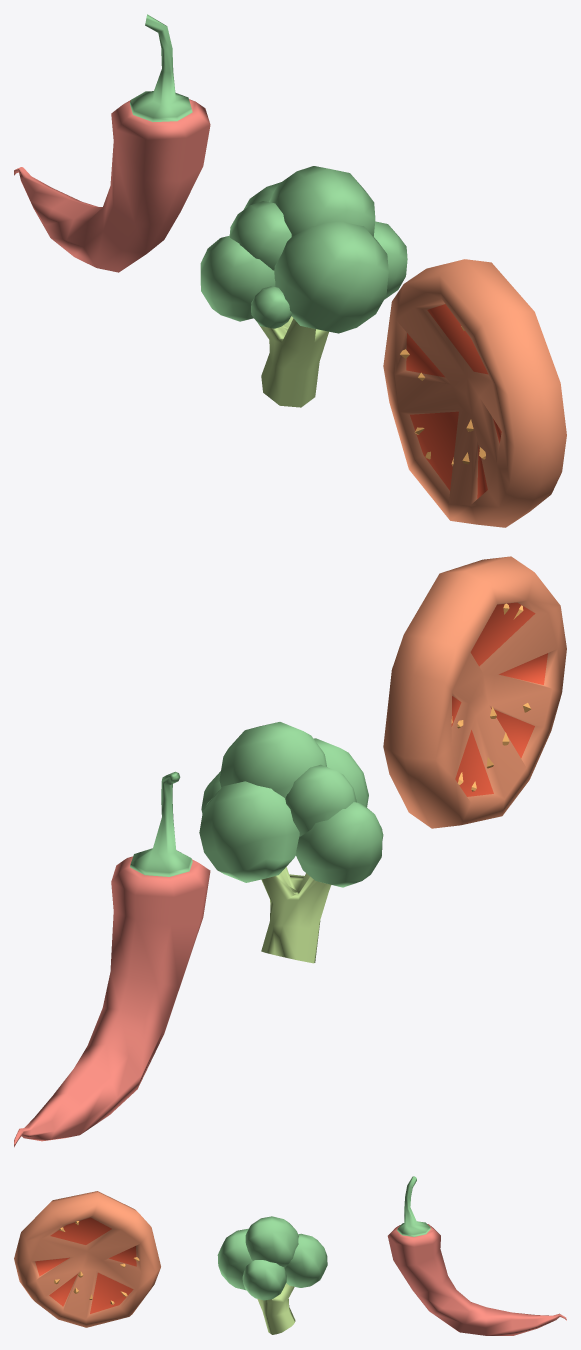
The model's file is Obstacle-Set-2.fbx.
3 renders of one model, top to bottom at view 1: azimuth 30°, elevation 25°; view 2: azimuth 150°, elevation 25°; view 3: azimuth 270°, elevation 25°, orthographic. The views are drawn at different scales.
Visible parts, largest first — view 1: tomatoSlice, Broccoli, Chili_Pepper_01; view 2: tomatoSlice, Broccoli, Chili_Pepper_01; view 3: tomatoSlice, Broccoli, Chili_Pepper_01.
Boxes of the visible parts, x1=… form: tomatoSlice: x1=383, y1=259, x2=566, y2=527; Broccoli: x1=200, y1=166, x2=407, y2=407; Chili_Pepper_01: x1=14, y1=14, x2=210, y2=272; tomatoSlice: x1=383, y1=556, x2=566, y2=828; Broccoli: x1=199, y1=722, x2=383, y2=963; Chili_Pepper_01: x1=14, y1=771, x2=210, y2=1147; tomatoSlice: x1=14, y1=1191, x2=160, y2=1327; Broccoli: x1=217, y1=1216, x2=327, y2=1334; Chili_Pepper_01: x1=387, y1=1176, x2=566, y2=1335.
Size of the model in its own units: 0.9093 by 1.43 by 4.59.
